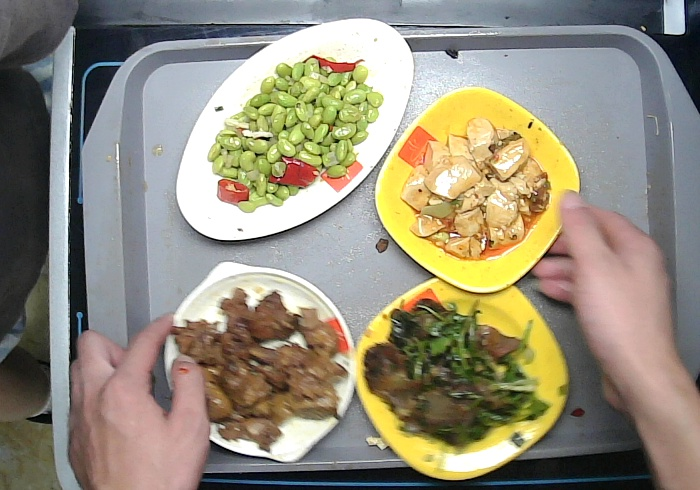SHKJ-Bao_Yu_Pan: (161, 257, 361, 465)
SHKJ-Huang_Se_Cai_Die: (363, 83, 588, 299)
SHKJ-Huang_Se_Si_Fang_Cai_Die: (349, 268, 577, 479)
SHKJ-Yu_Pan: (172, 14, 418, 245)
